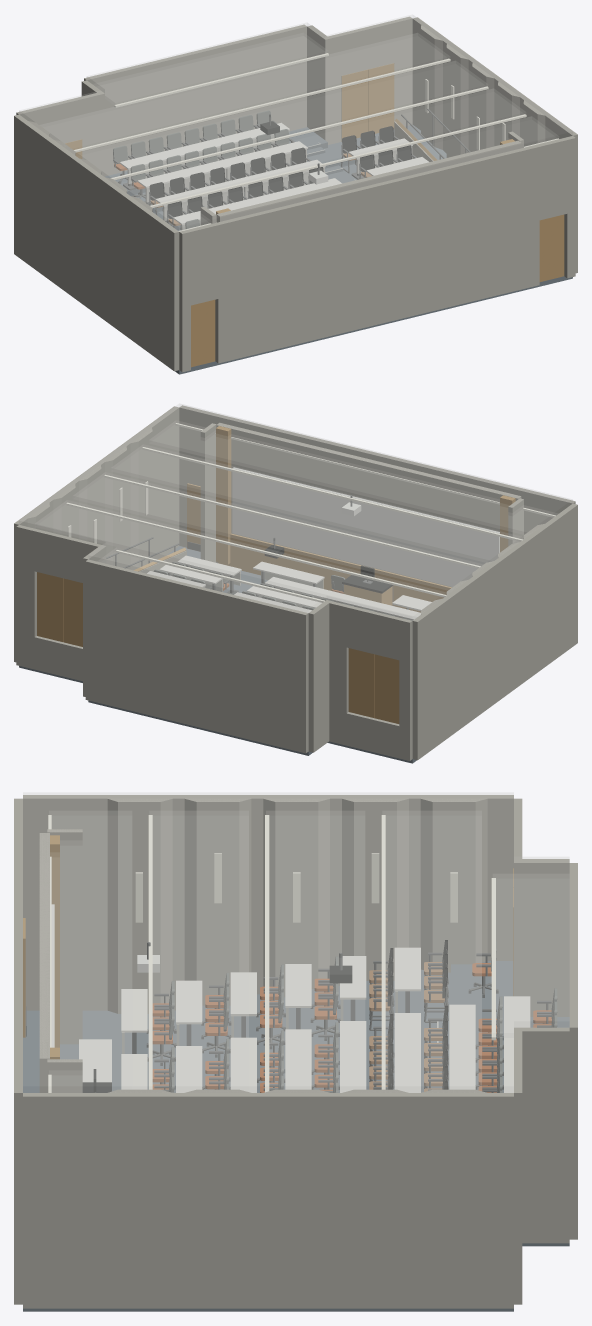
File: room-corrected.glb
The picture shows the model from 3 angles, top to bottom: view 1: azimuth 30°, elevation 25°; view 2: azimuth 150°, elevation 25°; view 3: azimuth 270°, elevation 25°; orthographic projection. The views are drawn at different scales.
Parts seen in each view (by area): view 1: room_1__Ceiling__Slab.001, room_1__Wall_S__Body.001, room_1__Ceiling_Panels__Panel_volumes.001, room_1__Wall_N__Body.001, room_1__Wall_W__Body.001, room_1__Ceiling_Lights__Diffusers.001, room_1__Wall_E__Body.001, room_1__Front_Bulkhead__Backing.001, room_1__WallRib_R5__Faceted_body.001, room_1__WallRib_R4__Faceted_body.001, room_1__WallRib_R3__Faceted_body.001, room_1__FrontDoor_R__Leaf.001 (+16 smaller); view 2: room_1__Ceiling__Slab.001, room_1__Wall_N__Body.001, room_1__Ceiling_Panels__Panel_volumes.001, room_1__Wall_W__Body.001, room_1__FrontPanels__White_writing_and_projection_surface.00, room_1__Front_Bulkhead__Backing.001, room_1__Wall_S__Body.001, room_1__Wall_E__Body.001, room_1__Ceiling_Lights__Diffusers.001, room_1__FrontPanels__Lower_wood_panel.001, room_1__WallRib_R1__Faceted_body.001, room_1__WallRib_R2__Faceted_body.001 (+19 smaller); view 3: room_1__Ceiling__Slab.001, room_1__Ceiling_Panels__Panel_volumes.001, room_1__Wall_E__Body.001, room_1__Wall_W__Body.001, room_1__Wall_N__Body.001, room_1__WallRib_L2__Faceted_body.001, room_1__WallRib_L1__Faceted_body.001, room_1__WallRib_L3__Faceted_body.001, room_1__WallRib_L5__Faceted_body.001, room_1__WallRib_L4__Faceted_body.001, room_1__Floor__Slab.001, room_1__Ceiling_Lights__Diffusers.001 (+27 smaller).
Part boxes in pixels (box(x1,y1,x2,y2)): room_1__Ceiling__Slab.001: box(19, 15, 572, 231); room_1__Wall_S__Body.001: box(179, 136, 575, 372); room_1__Ceiling_Panels__Panel_volumes.001: box(40, 33, 558, 230); room_1__Wall_N__Body.001: box(16, 16, 412, 176); room_1__Wall_W__Body.001: box(14, 114, 179, 371); room_1__Ceiling_Lights__Diffusers.001: box(74, 53, 558, 231); room_1__Wall_E__Body.001: box(412, 17, 577, 273); room_1__Front_Bulkhead__Backing.001: box(216, 140, 521, 222); room_1__WallRib_R5__Faceted_body.001: box(421, 25, 442, 149); room_1__WallRib_R4__Faceted_body.001: box(446, 44, 468, 157); room_1__WallRib_R3__Faceted_body.001: box(472, 63, 494, 151); room_1__FrontDoor_R__Leaf.001: box(539, 214, 564, 281); room_1__Ceiling__Slab.001: box(19, 404, 572, 620); room_1__Wall_N__Body.001: box(16, 525, 412, 760); room_1__Ceiling_Panels__Panel_volumes.001: box(35, 421, 556, 618); room_1__Wall_W__Body.001: box(412, 503, 577, 760); room_1__FrontPanels__White_writing_and_projection_surface.00: box(232, 467, 499, 586); room_1__Front_Bulkhead__Backing.001: box(216, 422, 521, 587); room_1__Wall_S__Body.001: box(179, 405, 575, 547); room_1__Wall_E__Body.001: box(14, 406, 179, 662); room_1__Ceiling_Lights__Diffusers.001: box(66, 423, 555, 602); room_1__FrontPanels__Lower_wood_panel.001: box(218, 533, 451, 612); room_1__WallRib_R1__Faceted_body.001: box(130, 428, 152, 569); room_1__WallRib_R2__Faceted_body.001: box(105, 446, 126, 568); room_1__Ceiling__Slab.001: box(23, 792, 569, 1092); room_1__Ceiling_Panels__Panel_volumes.001: box(49, 811, 568, 1092); room_1__Wall_E__Body.001: box(23, 1093, 513, 1308); room_1__Wall_W__Body.001: box(23, 795, 513, 1010); room_1__Wall_N__Body.001: box(514, 798, 577, 1304); room_1__WallRib_L2__Faceted_body.001: box(184, 798, 251, 1005); room_1__WallRib_L1__Faceted_body.001: box(107, 798, 172, 1013); room_1__WallRib_L3__Faceted_body.001: box(263, 798, 329, 997); room_1__WallRib_L5__Faceted_body.001: box(420, 798, 487, 972); room_1__WallRib_L4__Faceted_body.001: box(342, 798, 408, 980); room_1__Floor__Slab.001: box(23, 1010, 569, 1311); room_1__Ceiling_Lights__Diffusers.001: box(48, 815, 495, 1092).
Size of the model in its own units: 14.11 by 4.91 by 11.15.
